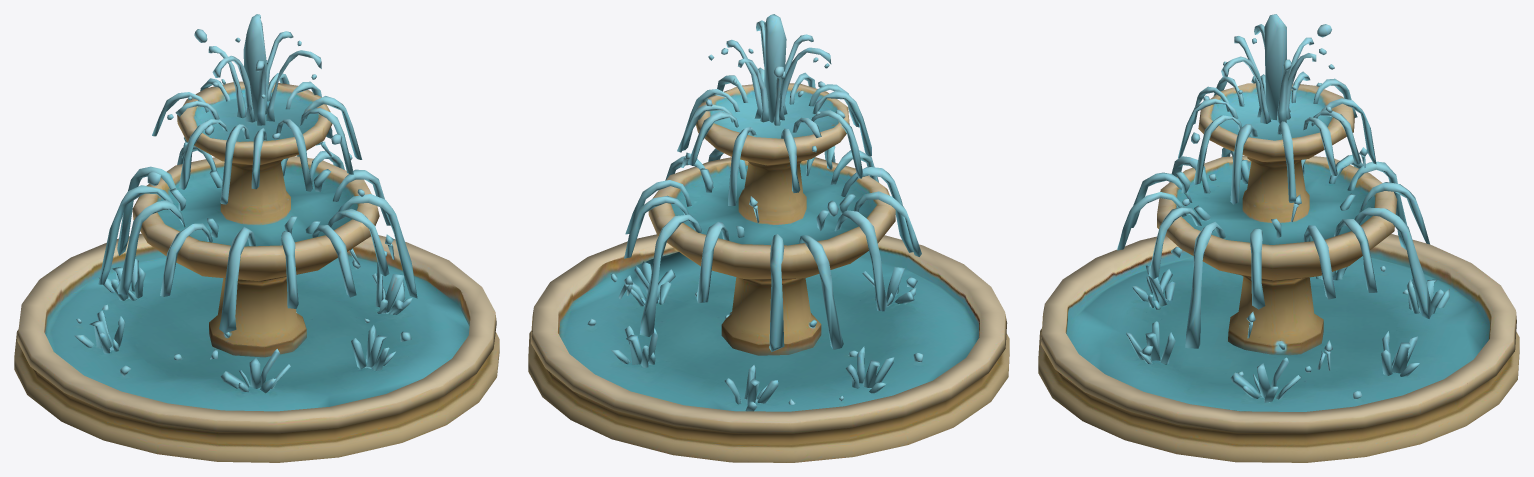
Rendered from 019e4bf5-9f73-7486-9b44-0ea58ecfb363.glb.
The picture shows the model from 3 angles, left to right: view 1: azimuth 30°, elevation 25°; view 2: azimuth 150°, elevation 25°; view 3: azimuth 270°, elevation 25°; orthographic projection.
Visible parts, largest first — view 1: tripo_node_4fa53bf5-8dc1-4772-ab10-efaae726ce9d; view 2: tripo_node_4fa53bf5-8dc1-4772-ab10-efaae726ce9d; view 3: tripo_node_4fa53bf5-8dc1-4772-ab10-efaae726ce9d.
Boxes of the visible parts, x1=… form: tripo_node_4fa53bf5-8dc1-4772-ab10-efaae726ce9d: x1=14, y1=14, x2=499, y2=462; tripo_node_4fa53bf5-8dc1-4772-ab10-efaae726ce9d: x1=528, y1=14, x2=1009, y2=462; tripo_node_4fa53bf5-8dc1-4772-ab10-efaae726ce9d: x1=1038, y1=14, x2=1519, y2=462.
Size of the model in its own units: 0.998 by 0.791 by 0.998.
1 material, 1 textured.
